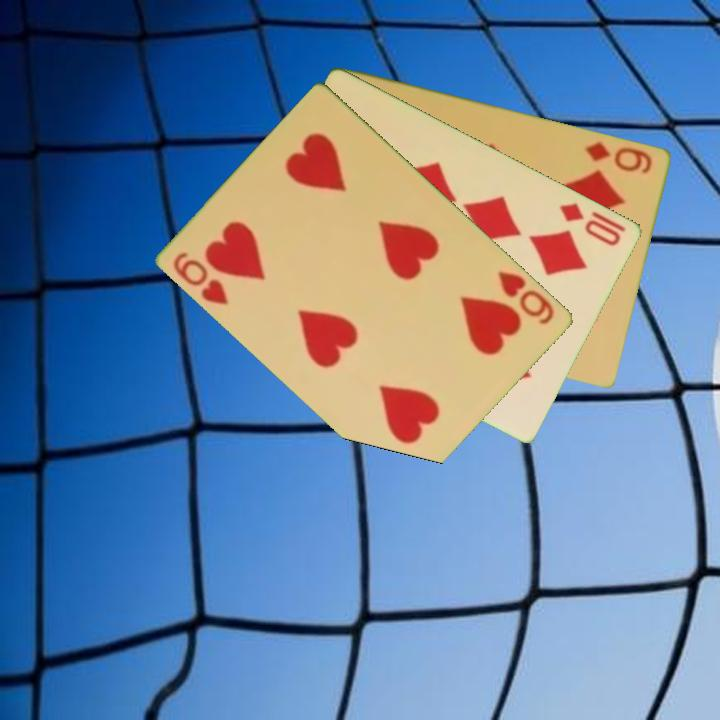10d: (556, 198, 629, 249)
6d: (582, 137, 656, 176)
6h: (495, 267, 558, 327), (170, 248, 233, 308)
